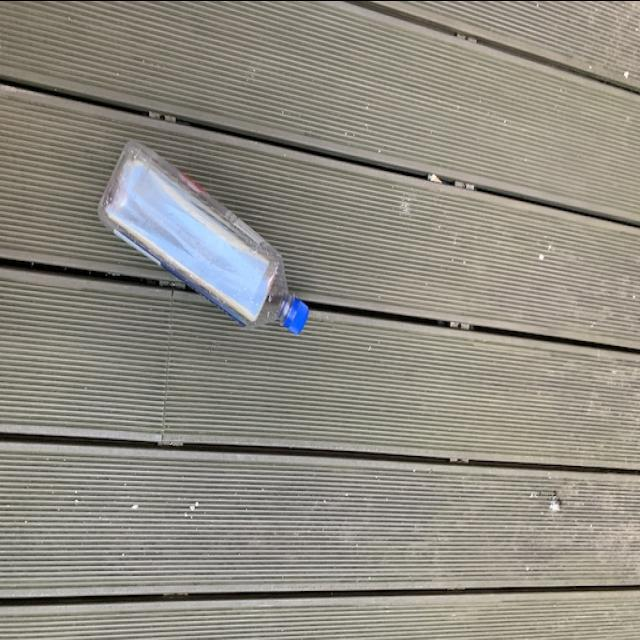litter: (96, 138, 316, 342)
